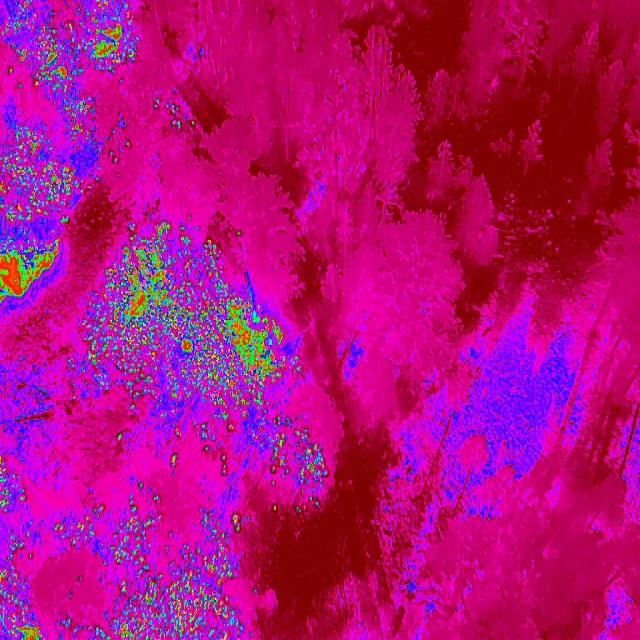fire: (86, 218, 303, 408), (0, 1, 140, 91), (102, 556, 248, 640), (0, 126, 85, 226), (262, 410, 330, 516), (0, 237, 59, 305), (0, 551, 41, 640), (194, 412, 234, 476), (112, 515, 163, 565), (52, 505, 106, 545), (55, 90, 98, 140), (200, 506, 245, 553), (146, 94, 200, 132), (124, 477, 172, 511), (0, 457, 27, 515), (104, 132, 135, 164), (167, 450, 180, 472), (113, 429, 125, 445), (172, 424, 184, 440)
